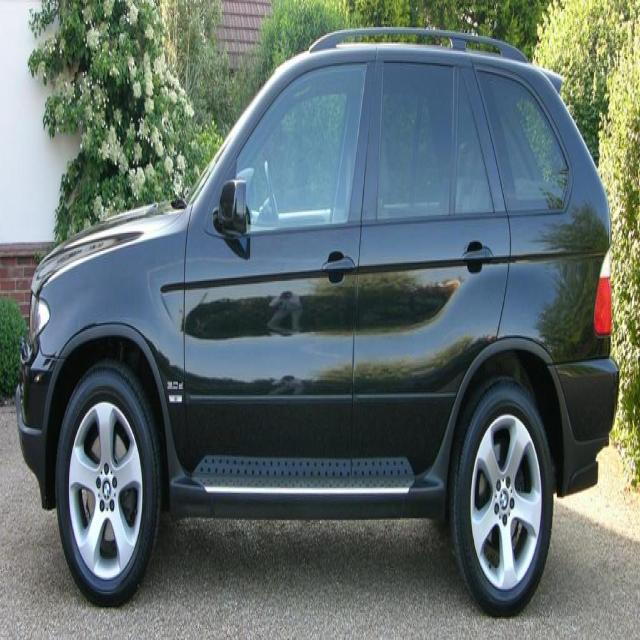car: (12, 20, 622, 612)
